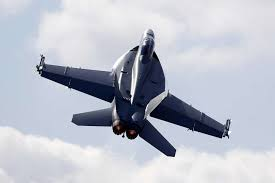fighter: (34, 27, 234, 159)
